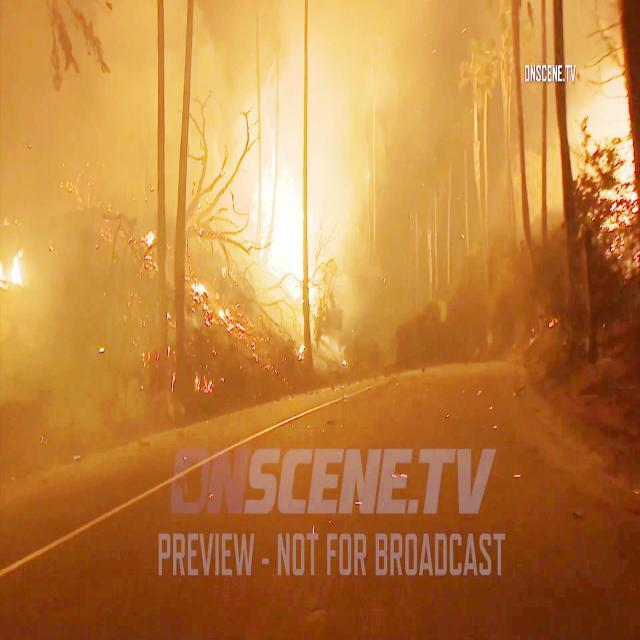Fire: (251, 138, 314, 296)
